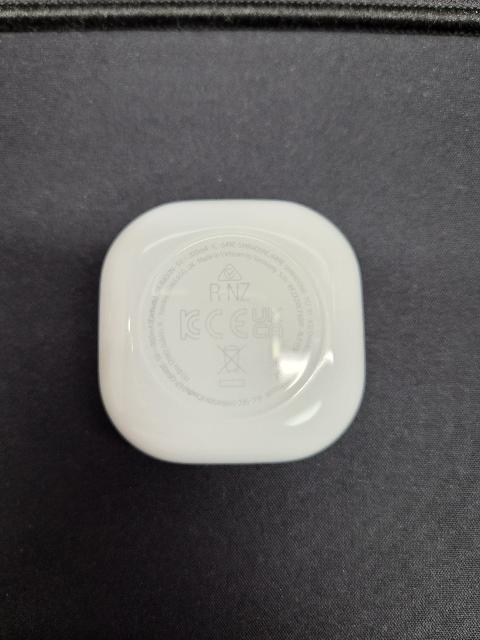earphone_case: (97, 200, 363, 464)
